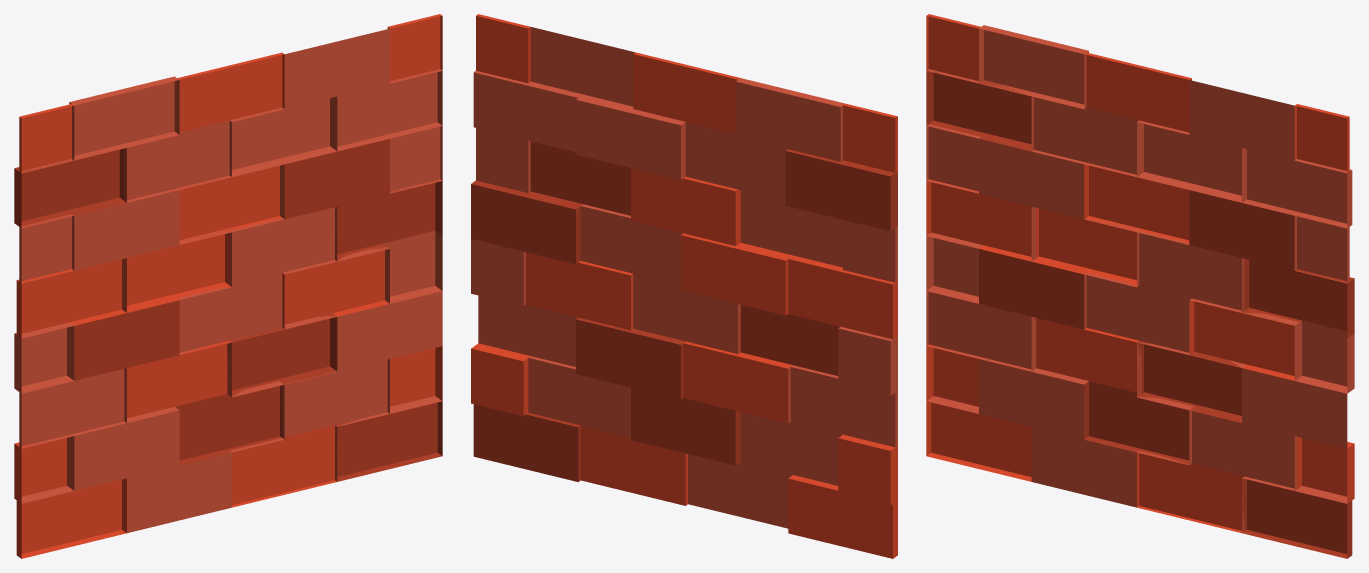
Rendered from Straight_Edge_Wall.obj.
The picture shows the model from 3 angles, left to right: view 1: azimuth 30°, elevation 25°; view 2: azimuth 150°, elevation 25°; view 3: azimuth 330°, elevation 25°; orthographic projection.
Parts seen in each view (by area): view 1: Straight_Edge_Wall; view 2: Straight_Edge_Wall; view 3: Straight_Edge_Wall.
Boxes of the visible parts, bbox=[...] form: Straight_Edge_Wall: bbox=[14, 14, 442, 558]; Straight_Edge_Wall: bbox=[471, 14, 897, 558]; Straight_Edge_Wall: bbox=[926, 14, 1354, 558].
Bounding box in the file's own units: 1 × 1 × 0.03.
